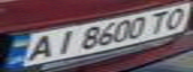0: (127, 14, 154, 38), (115, 18, 136, 43)
6: (97, 20, 118, 47)
8: (78, 24, 103, 51)
A: (18, 33, 60, 63)
I: (48, 28, 81, 56)
O: (157, 5, 193, 30)
T: (145, 9, 175, 35)
